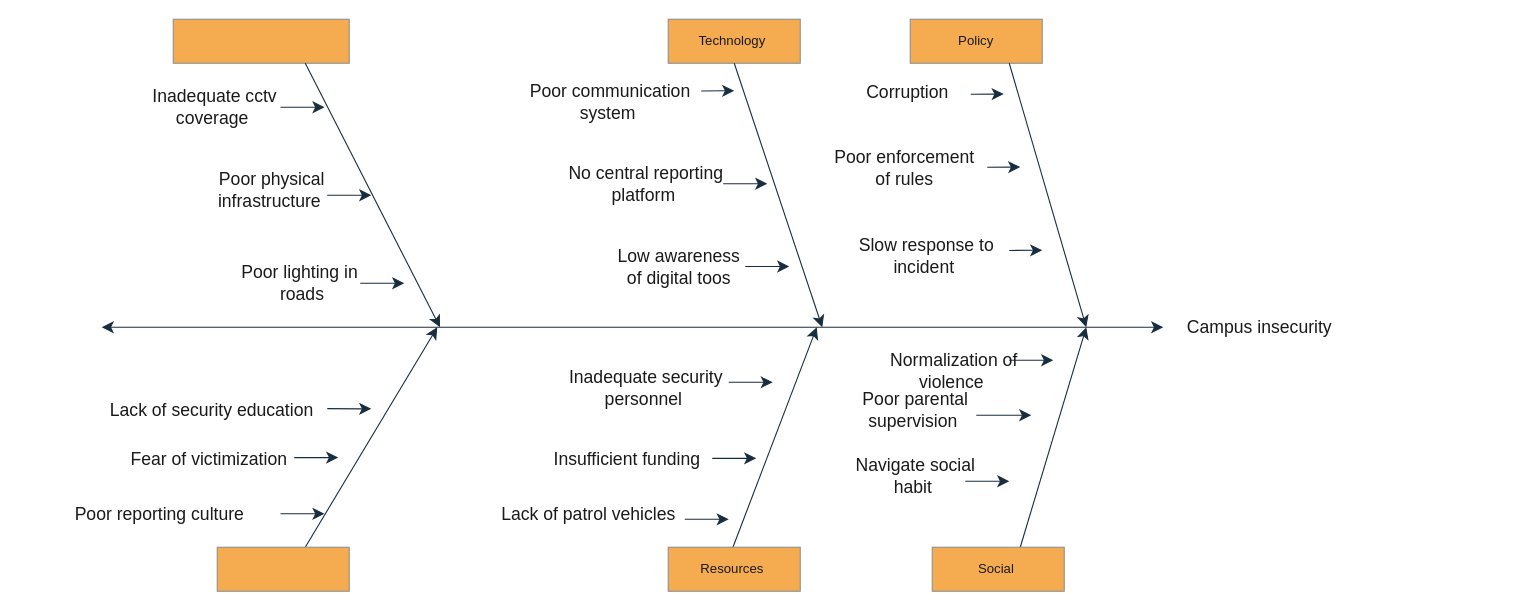
This 1533x611 diagram has some shape labels left out. Each missing label, with the centre of its shape:
"Awareness" belongs at point 282,568.
"Environment" belongs at point 260,40.
